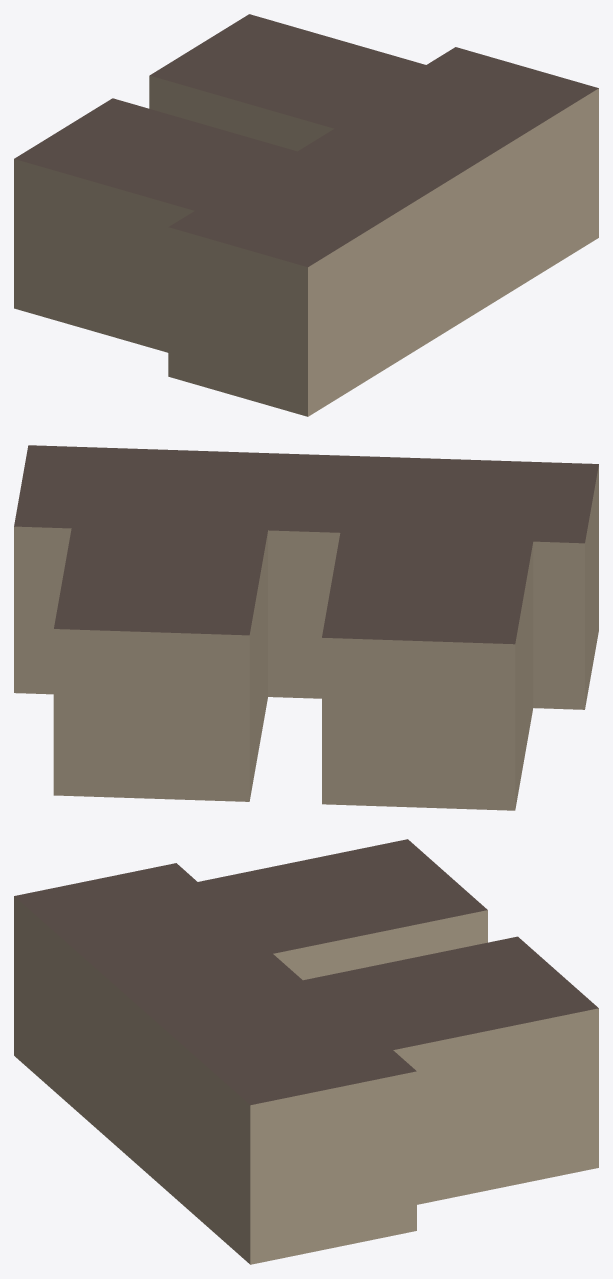
The picture shows the model from 3 angles, top to bottom: view 1: azimuth 30°, elevation 25°; view 2: azimuth 150°, elevation 25°; view 3: azimuth 270°, elevation 25°; orthographic projection. The views are drawn at different scales.
Parts seen in each view (by area): view 1: HP-w859424154; view 2: HP-w859424154; view 3: HP-w859424154.
Part boxes in pixels (x1,y1,x2,y2): HP-w859424154: (14, 14, 598, 416); HP-w859424154: (14, 445, 598, 810); HP-w859424154: (14, 839, 598, 1264).
Bounding box in the file's own units: 32.19 × 9 × 29.9.
